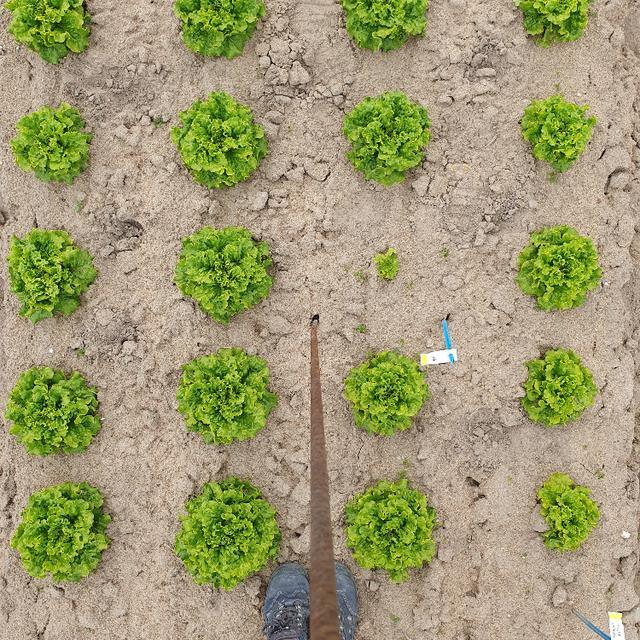Lettuce: (172, 476, 285, 592), (172, 85, 270, 195), (10, 482, 113, 585), (342, 473, 443, 577), (177, 345, 275, 452), (177, 223, 278, 325), (5, 360, 103, 457), (5, 225, 98, 323), (515, 223, 608, 315), (343, 93, 432, 185), (342, 343, 428, 435), (518, 338, 597, 434), (7, 102, 95, 188), (517, 90, 595, 183), (0, 0, 98, 73), (172, 0, 270, 65), (530, 475, 605, 555), (337, 0, 435, 60), (516, 0, 593, 46), (370, 240, 402, 282)
